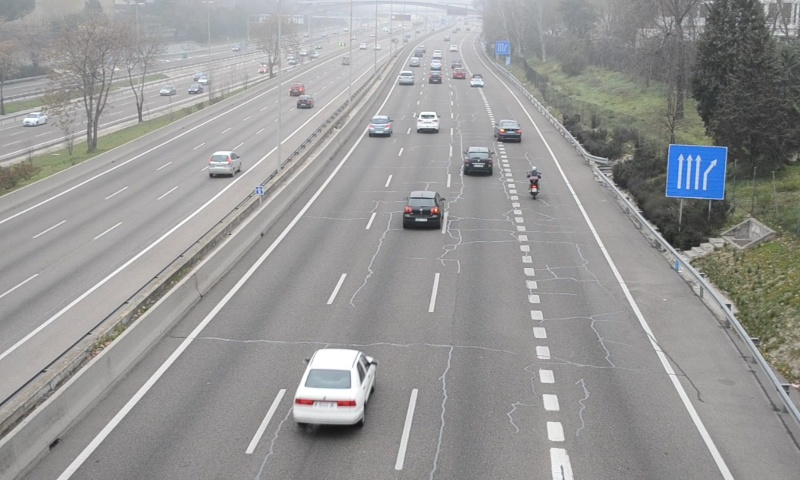car: (293, 348, 377, 424), (400, 190, 443, 227), (464, 146, 494, 176), (495, 119, 522, 143), (367, 114, 393, 136), (416, 111, 441, 133), (398, 68, 412, 84)
motorcycle: (527, 165, 542, 201)
